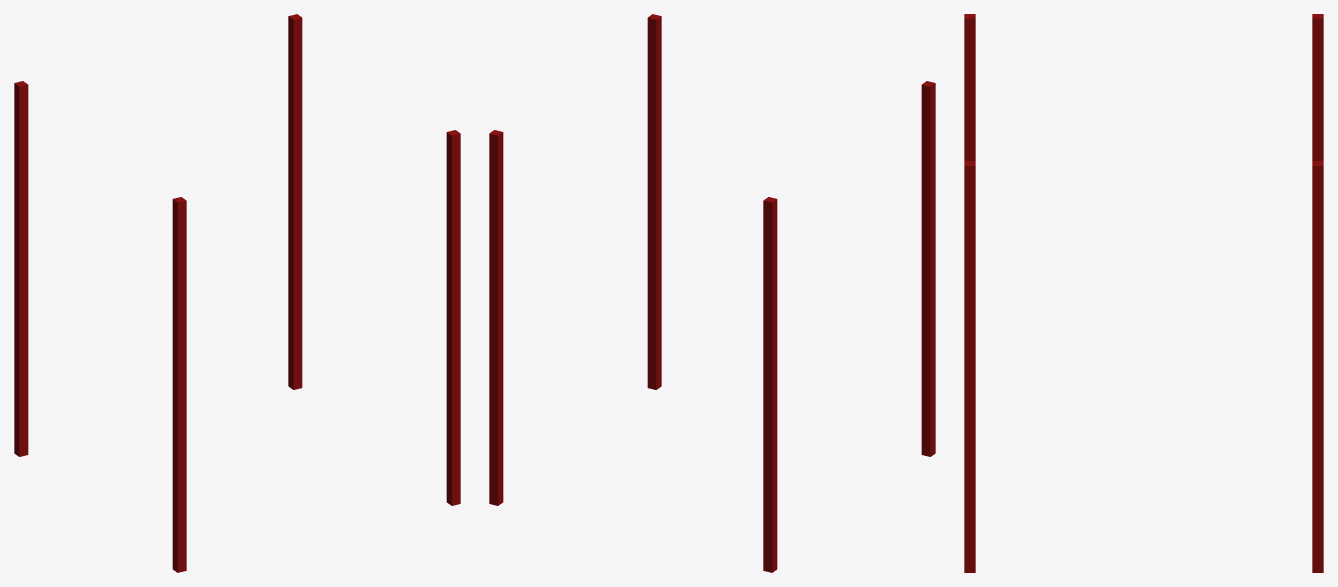
Rendered from 0_No Walls.dae.
3 renders of one model, left to right at view 1: azimuth 30°, elevation 25°; view 2: azimuth 150°, elevation 25°; view 3: azimuth 270°, elevation 25°, orthographic. The views are drawn at different scales.
Visible parts, largest first — view 1: No_Walls; view 2: No_Walls; view 3: No_Walls.
Boxes of the visible parts, bbox=[...] form: No_Walls: bbox=[14, 14, 460, 572]; No_Walls: bbox=[489, 14, 935, 572]; No_Walls: bbox=[964, 14, 1323, 572].
Bounding box in the file's own units: 8 × 8 × 10.
